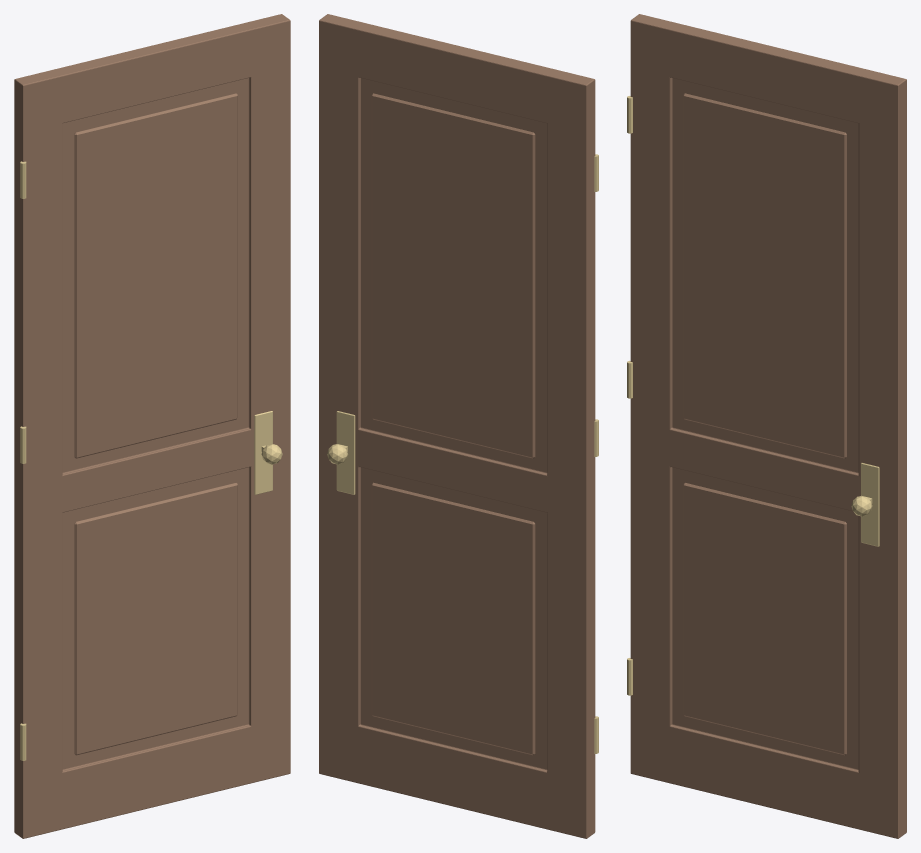
The model's file is door_leaf_front.glb.
3 renders of one model, left to right at view 1: azimuth 30°, elevation 25°; view 2: azimuth 150°, elevation 25°; view 3: azimuth 330°, elevation 25°, orthographic.
Visible parts, largest first — view 1: door_leaf_front_door, door_leaf_front_brass; view 2: door_leaf_front_door, door_leaf_front_brass; view 3: door_leaf_front_door, door_leaf_front_brass.
Boxes of the visible parts, x1,y1,x2,y2 form: door_leaf_front_door: [14, 14, 290, 838]; door_leaf_front_brass: [20, 161, 282, 760]; door_leaf_front_door: [319, 14, 595, 838]; door_leaf_front_brass: [327, 154, 598, 753]; door_leaf_front_door: [630, 14, 906, 838]; door_leaf_front_brass: [627, 96, 879, 695].
Bounding box in the file's own units: 0.884 × 2.36 × 0.21.
